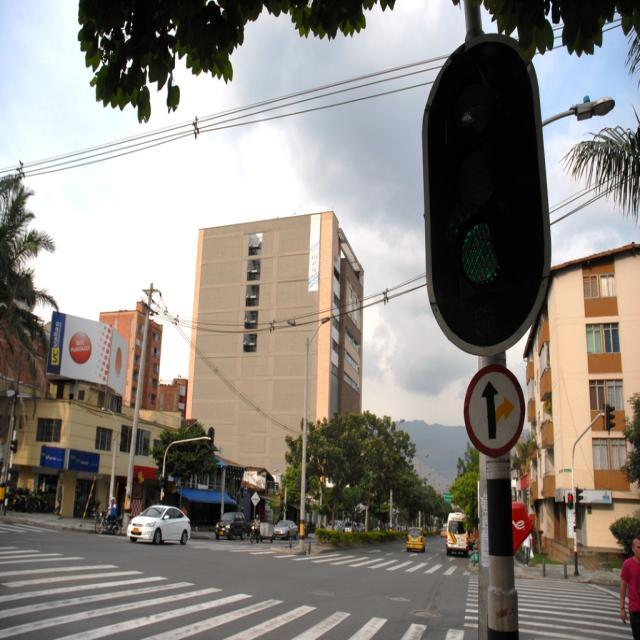traffic light: (449, 69, 509, 298), (603, 403, 617, 430)
